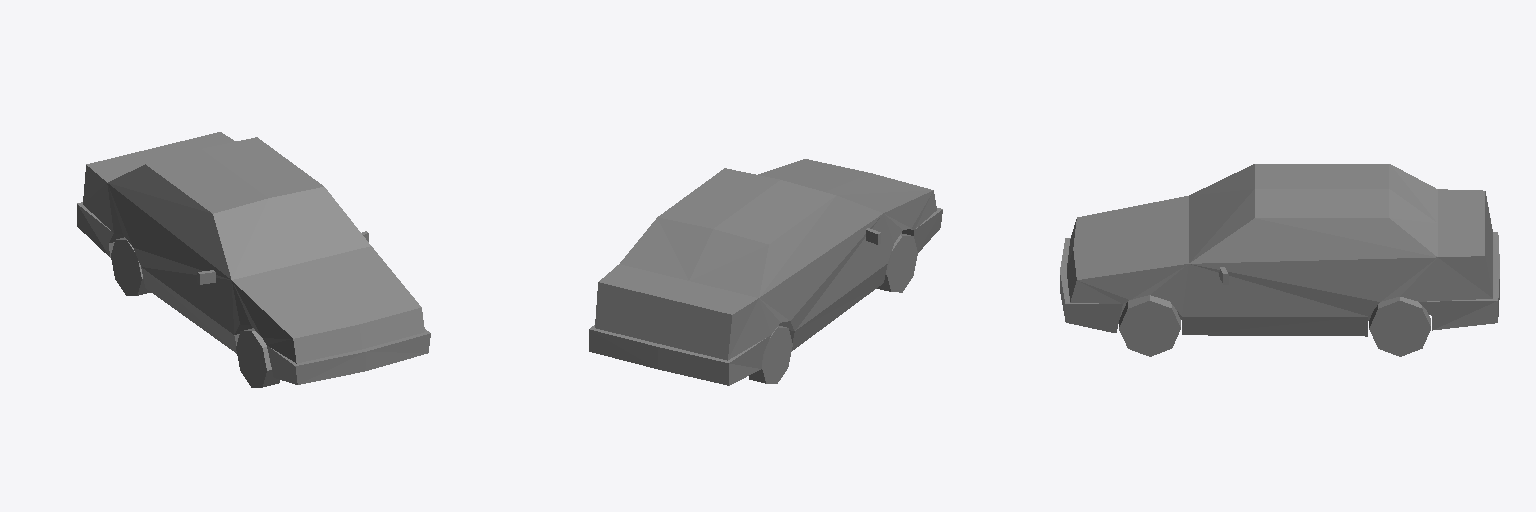
Rendered from Car2.obj.
3 views of the same model, side by side, from view 1: azimuth 30°, elevation 25°; view 2: azimuth 150°, elevation 25°; view 3: azimuth 270°, elevation 25° (orthographic).
Visible parts, largest first — view 1: Car2; view 2: Car2; view 3: Car2.
Boxes of the visible parts, box(x1,y1,x2,y2) form: Car2: box(77, 132, 430, 387); Car2: box(589, 159, 942, 385); Car2: box(1060, 164, 1499, 356).
Bounding box in the file's own units: 2.9 × 2.2 × 6.53.